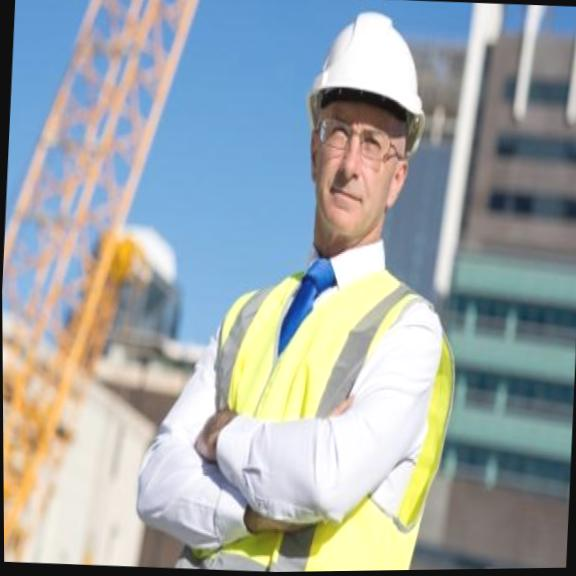safety_vest: (131, 232, 462, 574)
